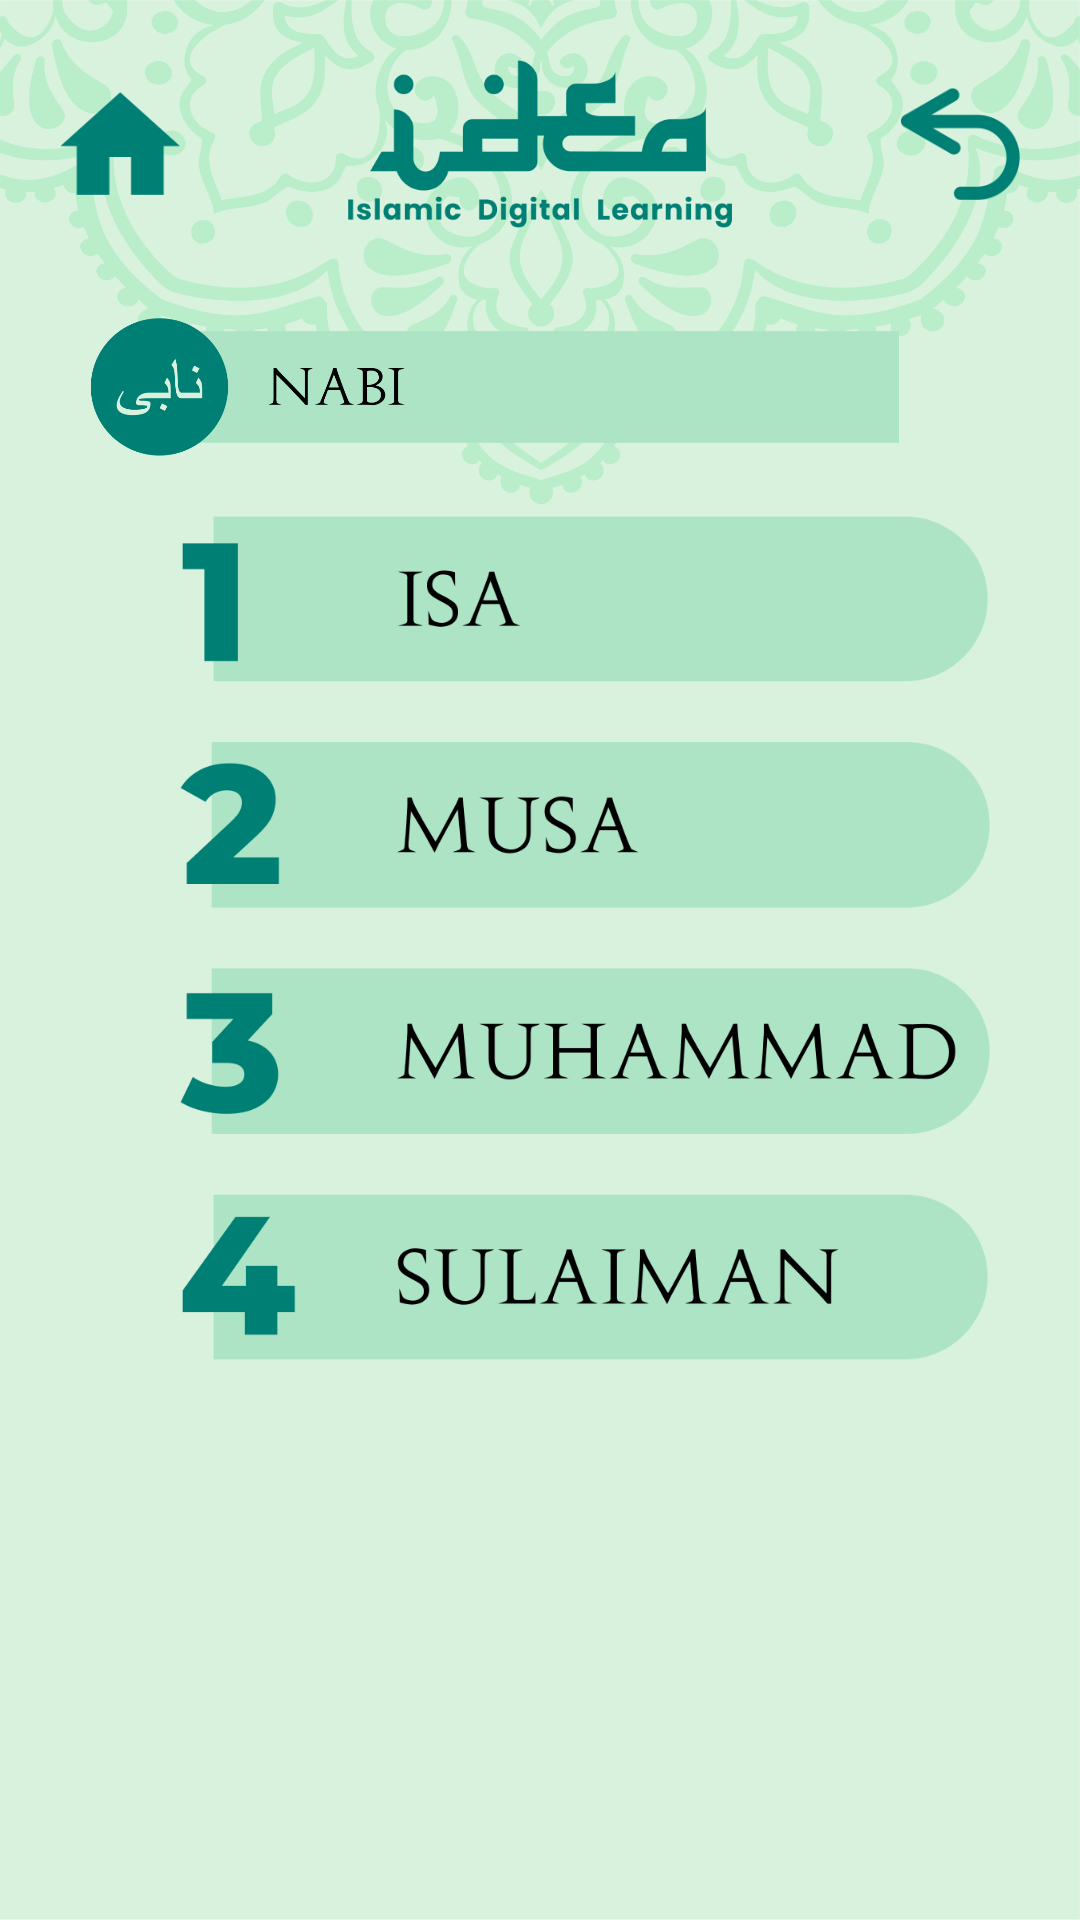

Where icons sit on this 1080×1920 app screen, as (x1, y1, x2, y2):
back: (900, 84, 1020, 204)
home: (60, 85, 180, 202)
